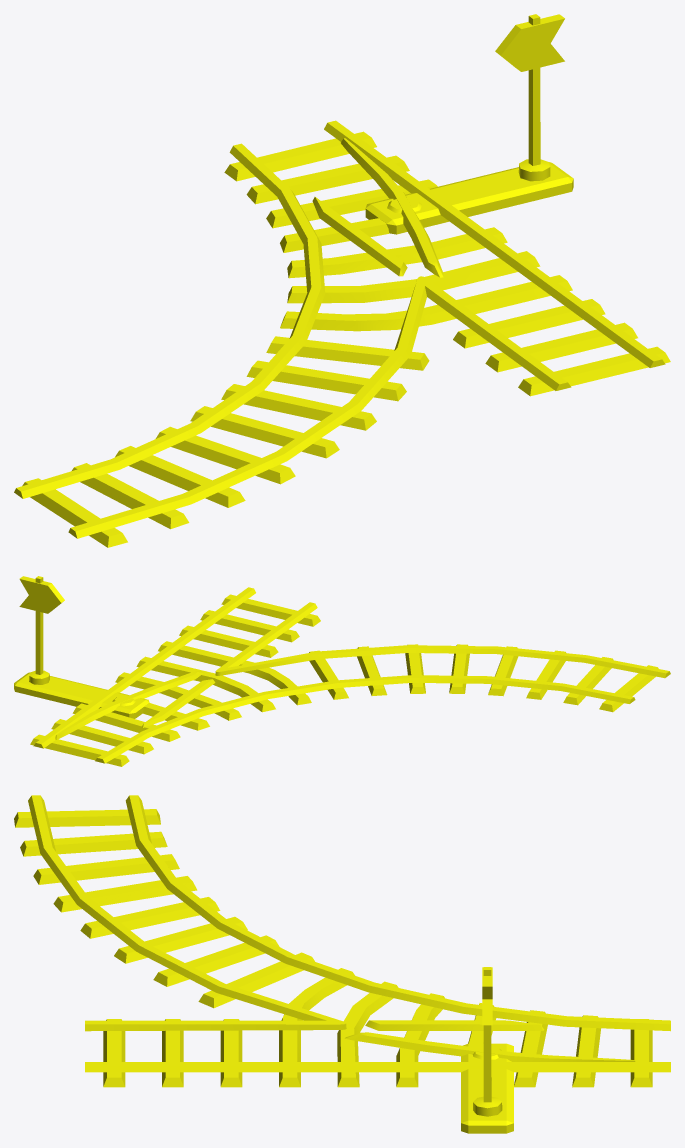
Rendered from kaykit-tracks-split-right.glb.
The picture shows the model from 3 angles, top to bottom: view 1: azimuth 30°, elevation 25°; view 2: azimuth 150°, elevation 25°; view 3: azimuth 270°, elevation 25°; orthographic projection. The views are drawn at different scales.
Parts seen in each view (by area): view 1: tracks_split_right; view 2: tracks_split_right; view 3: tracks_split_right.
Boxes of the visible parts, x1=… form: tracks_split_right: x1=14, y1=14, x2=670, y2=547; tracks_split_right: x1=14, y1=576, x2=670, y2=766; tracks_split_right: x1=14, y1=795, x2=670, y2=1133.
Bounding box in the file's own units: 2.62 × 0.5749 × 2.24.
